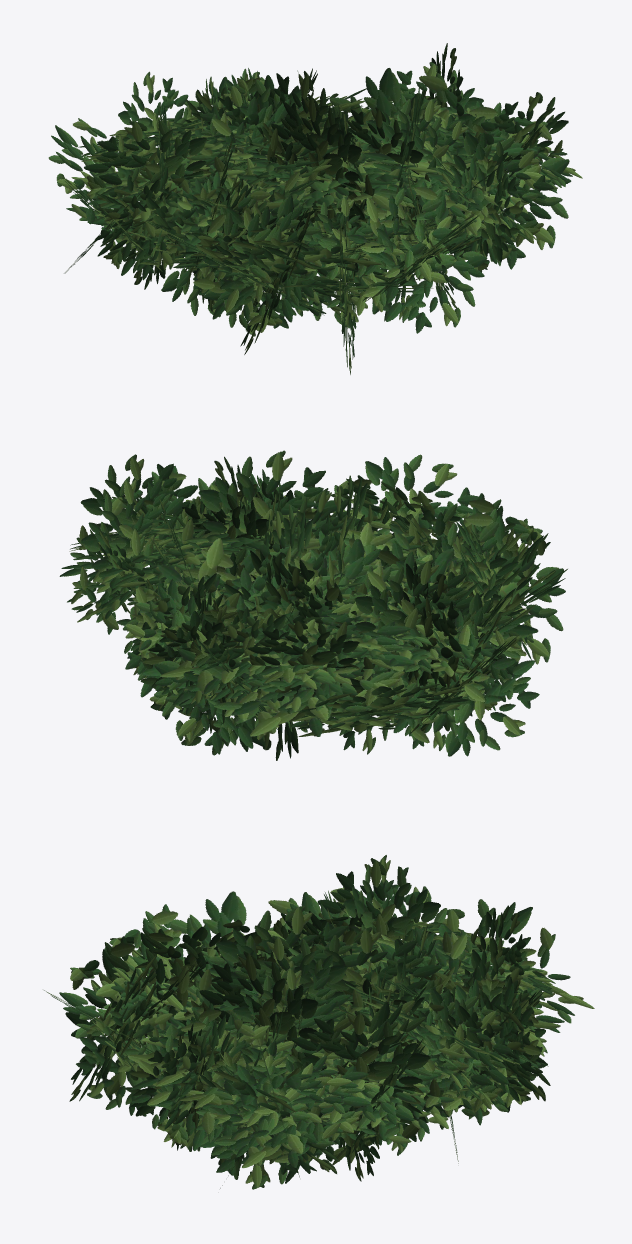
Rendered from pilot_groundcover.glb.
3 views of the same model, one above another, from view 1: azimuth 30°, elevation 25°; view 2: azimuth 150°, elevation 25°; view 3: azimuth 270°, elevation 25° (orthographic). The views are drawn at different scales.
Parts seen in each view (by area): view 1: pilot_groundcover_leaves2, pilot_groundcover_leaves0, pilot_groundcover_leaves1, pilot_groundcover_leaves2.001, pilot_groundcover_leaves0.001, pilot_groundcover_leaves1.001; view 2: pilot_groundcover_leaves1, pilot_groundcover_leaves0, pilot_groundcover_leaves2, pilot_groundcover_leaves1.001, pilot_groundcover_leaves2.001, pilot_groundcover_leaves0.001; view 3: pilot_groundcover_leaves0, pilot_groundcover_leaves2, pilot_groundcover_leaves1, pilot_groundcover_leaves0.001, pilot_groundcover_leaves2.001, pilot_groundcover_leaves1.001.
Part boxes in pixels (box(x1,y1,x2,y2)): pilot_groundcover_leaves2: box(135, 94, 553, 374); pilot_groundcover_leaves0: box(185, 43, 572, 328); pilot_groundcover_leaves1: box(62, 68, 349, 321); pilot_groundcover_leaves2.001: box(140, 68, 486, 332); pilot_groundcover_leaves0.001: box(182, 88, 582, 245); pilot_groundcover_leaves1.001: box(48, 111, 376, 268); pilot_groundcover_leaves1: box(123, 504, 539, 760); pilot_groundcover_leaves0: box(59, 450, 441, 732); pilot_groundcover_leaves2: box(179, 454, 565, 723); pilot_groundcover_leaves1.001: box(160, 551, 538, 737); pilot_groundcover_leaves2.001: box(150, 495, 567, 696); pilot_groundcover_leaves0.001: box(69, 499, 383, 723); pilot_groundcover_leaves0: box(125, 925, 512, 1188); pilot_groundcover_leaves2: box(44, 903, 466, 1189); pilot_groundcover_leaves1: box(201, 855, 555, 1163); pilot_groundcover_leaves0.001: box(127, 957, 548, 1168); pilot_groundcover_leaves2.001: box(96, 891, 454, 1183); pilot_groundcover_leaves1.001: box(163, 886, 594, 1062).
Size of the model in its own units: 1.66 by 0.7791 by 1.54.
1 material, 1 textured.
